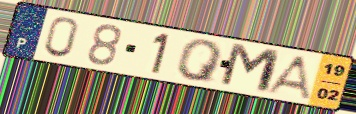0: (43, 16, 81, 59)
1: (150, 32, 172, 76)
8: (86, 22, 123, 66)
A: (262, 54, 314, 102)
M: (217, 41, 284, 96)
Q: (176, 39, 226, 85)
